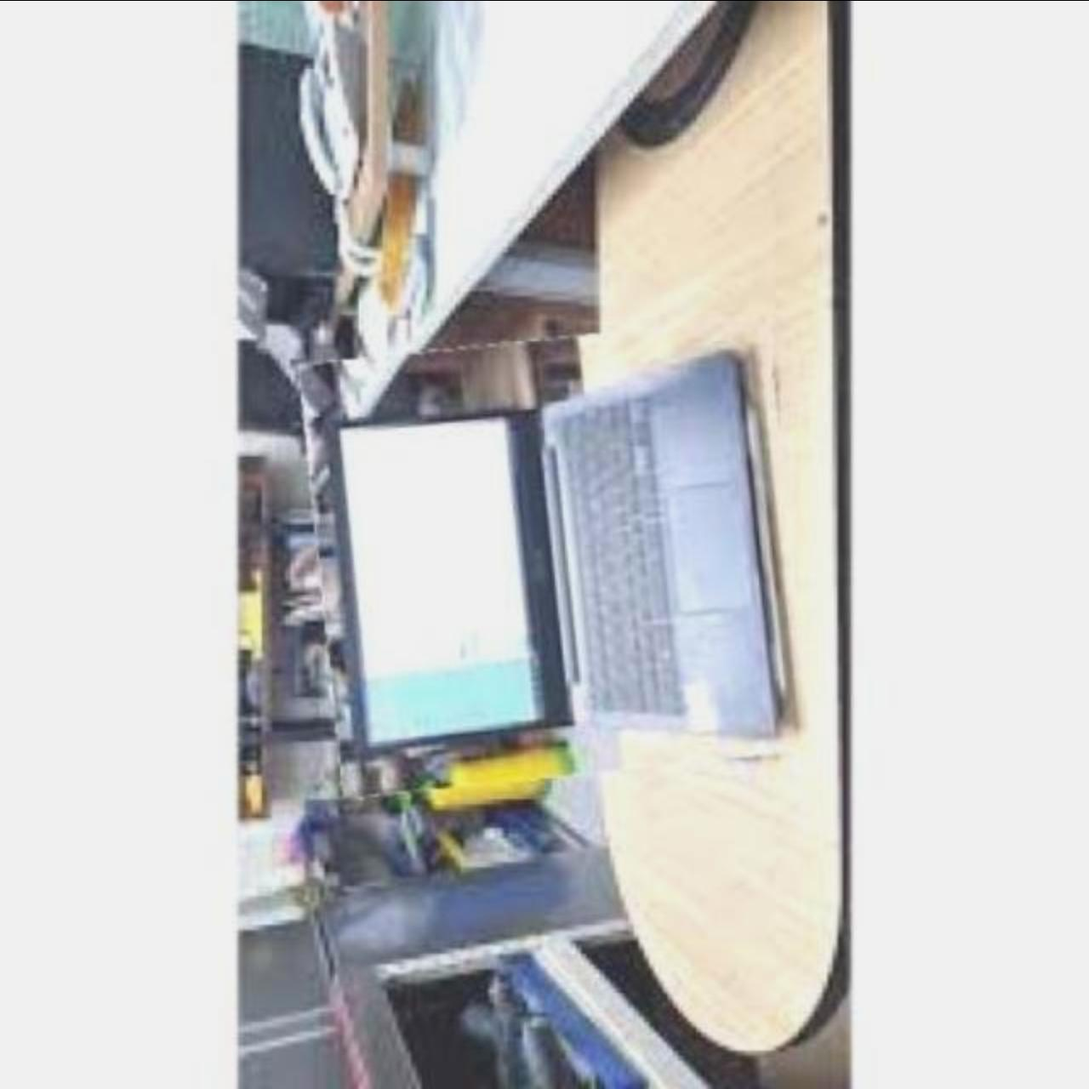laptop: (309, 328, 801, 785)
